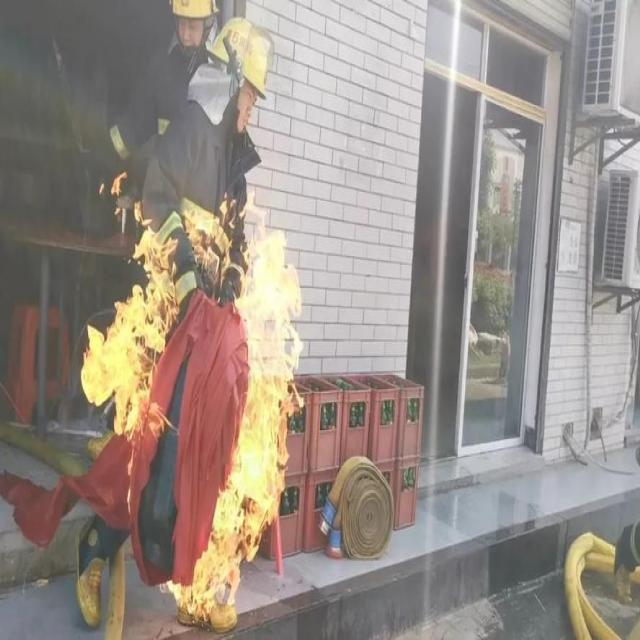Fire: (175, 236, 302, 609), (80, 226, 179, 434)
